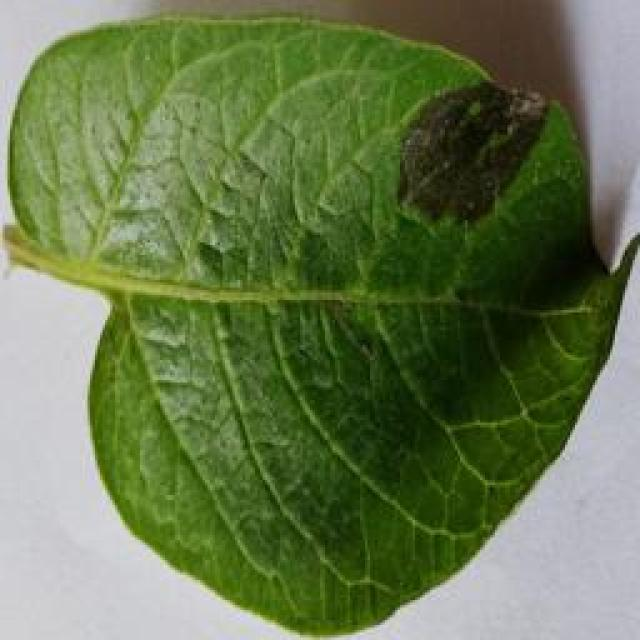Potato_Late_Blight: (4, 16, 624, 640)
